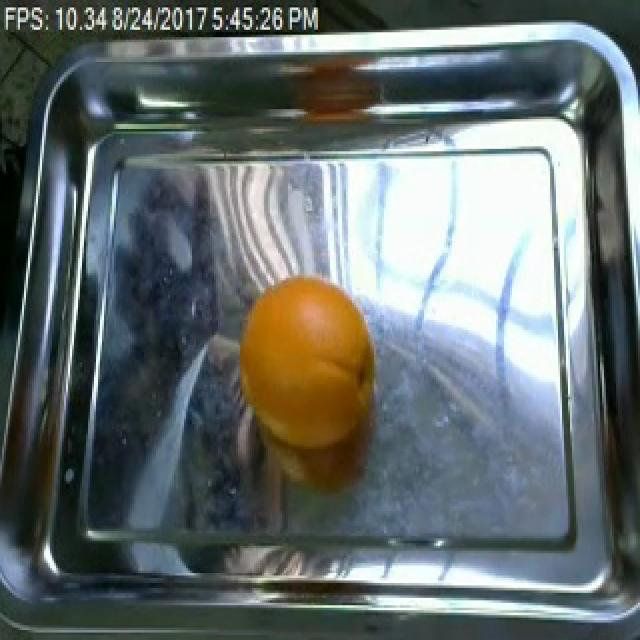Fruit: (236, 268, 382, 484)
